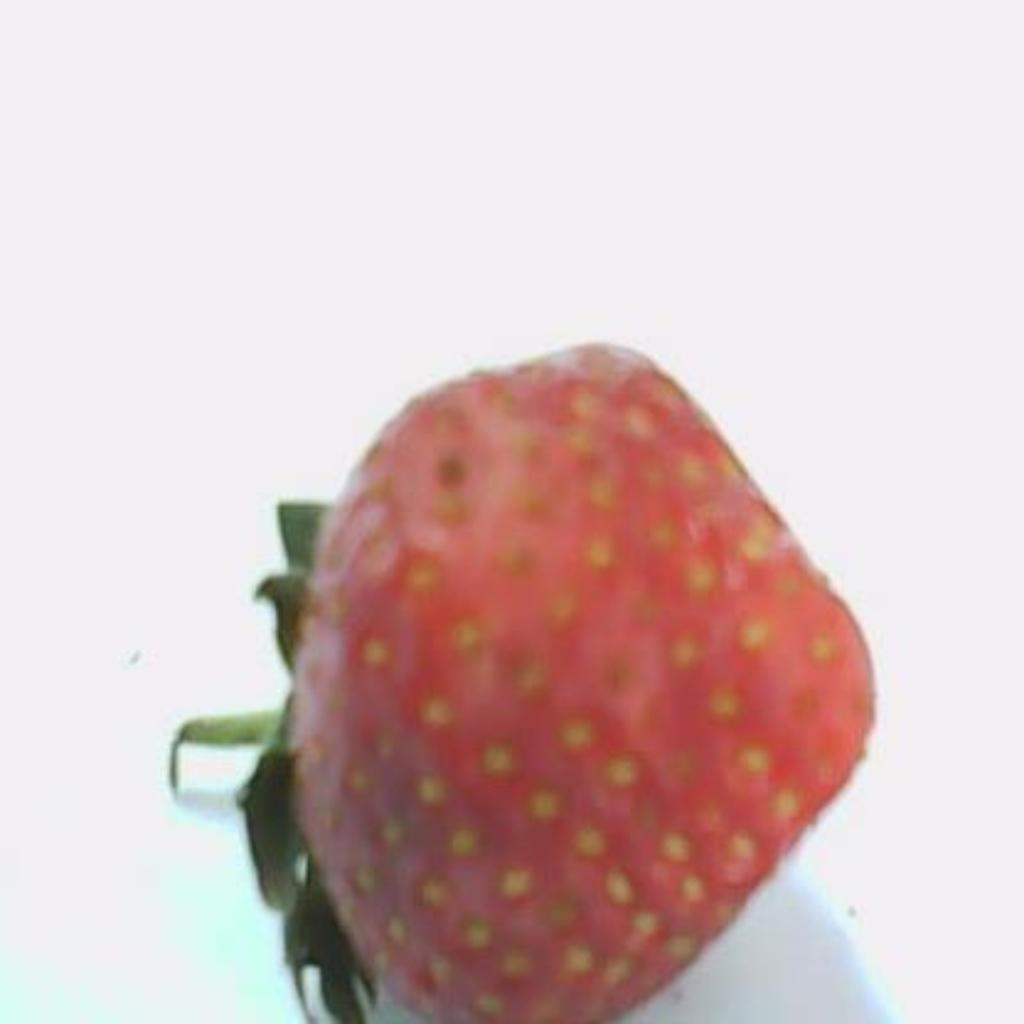strawberry: (170, 344, 874, 1024)
